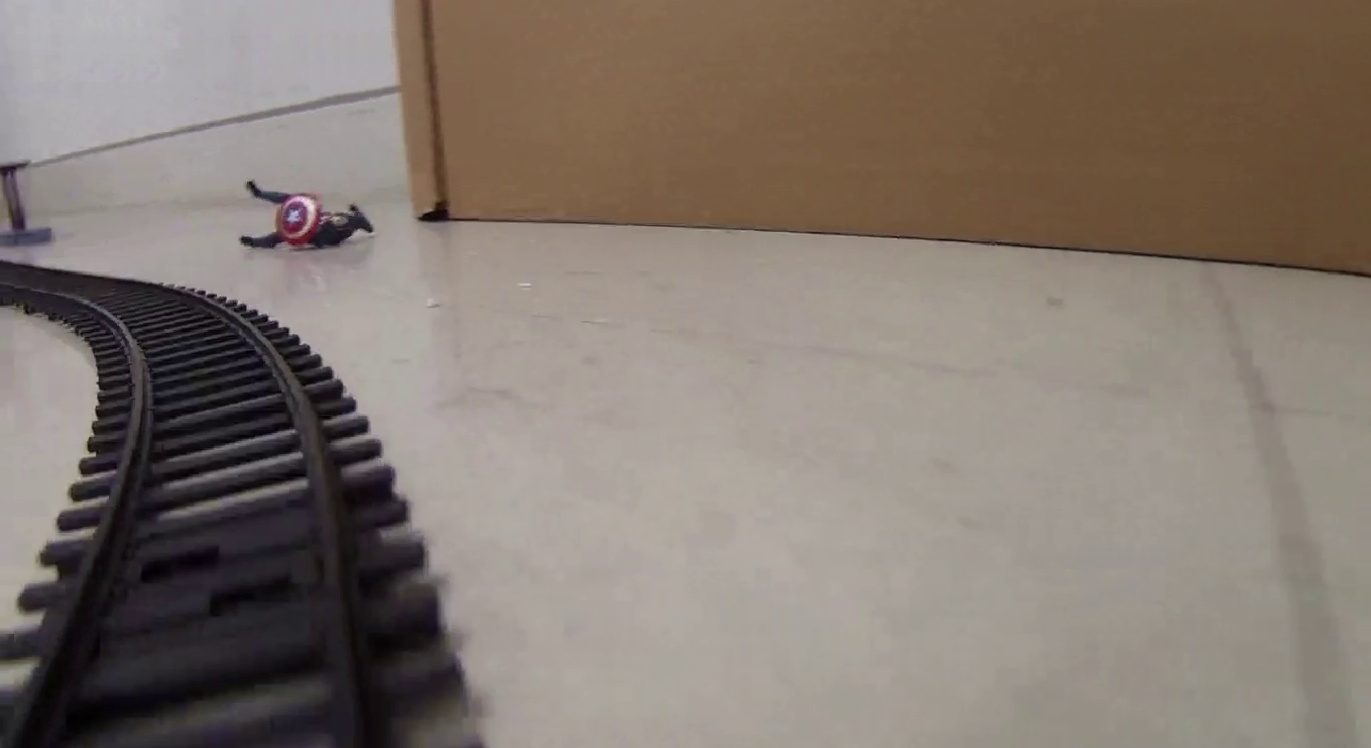people: (238, 180, 376, 251)
